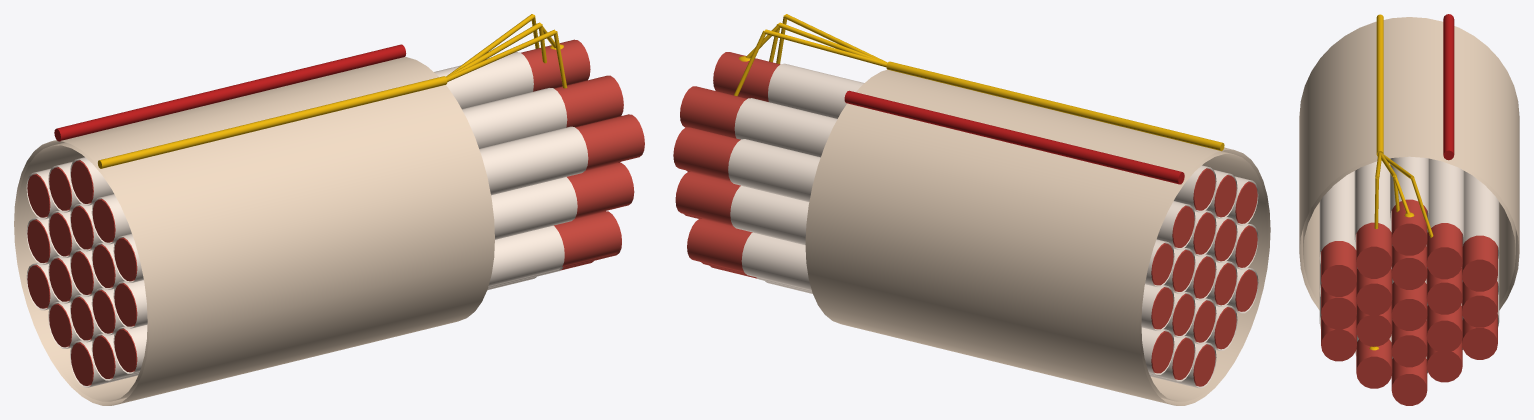
File: fascicle.glb
3 views of the same model, side by side, from view 1: azimuth 30°, elevation 25°; view 2: azimuth 150°, elevation 25°; view 3: azimuth 270°, elevation 25° (orthographic). The views are drawn at different scales.
Visible parts, largest first — view 1: Perimysium, Endomysium, Blood vessel, Fibers.012, Nerve, Fibers.013, Fibers.014, Fibers.011, Fibers.010, Motor neuron branches, Fibers.015, Fibers.016 (+12 smaller); view 2: Perimysium, Endomysium, Blood vessel, Fibers.008, Fibers.019, Nerve, Fibers.018, Fibers.009, Fibers.010, Motor neuron branches, Fibers.017, Fibers.016 (+12 smaller); view 3: Perimysium, Endomysium, Fibers.008, Fibers.011, Fibers.009, Fibers.012, Blood vessel, Fibers.010, Fibers.015, Fibers.001, Fibers.016, Fibers.007 (+12 smaller).
Boxes of the visible parts, bbox=[...] form: Perimysium: bbox=[14, 57, 494, 405]; Endomysium: bbox=[26, 52, 588, 387]; Blood vessel: bbox=[54, 44, 406, 141]; Fibers.012: bbox=[114, 114, 644, 281]; Nerve: bbox=[98, 76, 447, 168]; Fibers.013: bbox=[114, 162, 634, 326]; Fibers.014: bbox=[114, 211, 621, 372]; Fibers.011: bbox=[92, 75, 623, 242]; Fibers.010: bbox=[71, 39, 590, 203]; Motor neuron branches: bbox=[446, 14, 567, 88]; Fibers.015: bbox=[92, 224, 621, 378]; Fibers.016: bbox=[71, 261, 593, 385]; Perimysium: bbox=[805, 69, 1270, 405]; Endomysium: bbox=[728, 63, 1258, 388]; Blood vessel: bbox=[844, 90, 1184, 184]; Fibers.008: bbox=[673, 127, 1173, 285]; Fibers.019: bbox=[675, 171, 1173, 329]; Nerve: bbox=[886, 61, 1224, 151]; Fibers.018: bbox=[687, 218, 1173, 373]; Fibers.009: bbox=[680, 86, 1194, 247]; Fibers.010: bbox=[713, 52, 1215, 210]; Motor neuron branches: bbox=[734, 14, 887, 96]; Fibers.017: bbox=[701, 262, 1194, 379]; Fibers.016: bbox=[710, 266, 1215, 386]; Perimysium: bbox=[1299, 17, 1519, 310]; Endomysium: bbox=[1319, 156, 1499, 373]; Fibers.008: bbox=[1462, 235, 1497, 291]; Fibers.011: bbox=[1356, 222, 1392, 278]; Fibers.009: bbox=[1426, 223, 1462, 279]; Fibers.012: bbox=[1321, 241, 1356, 296]; Blood vessel: bbox=[1443, 14, 1454, 160]; Fibers.010: bbox=[1391, 199, 1427, 255]; Fibers.015: bbox=[1356, 339, 1392, 388]; Fibers.001: bbox=[1391, 282, 1427, 330]; Fibers.016: bbox=[1391, 358, 1427, 405]; Fibers.007: bbox=[1426, 305, 1462, 352].
Bounding box in the file's own units: 7.98 × 4.05 × 3.68.
